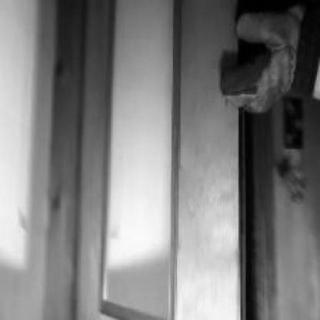other: (105, 28, 163, 282), (176, 212, 237, 320)
